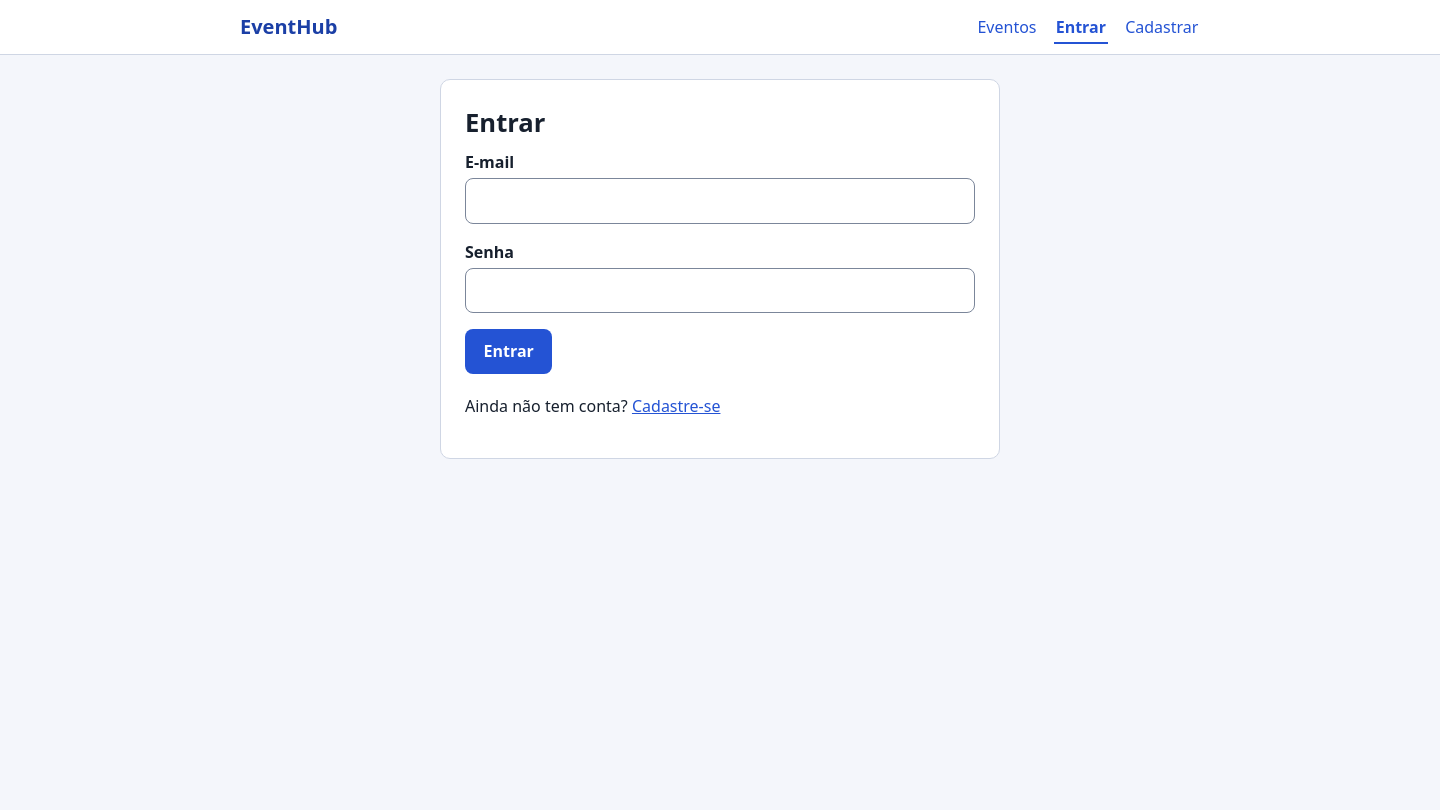
Administração de usuários › aprova: envia approved=true, atualiza a linha e lembra de entrar de novo
The image size is (1440, 810).
Type "maria@example.com" into the field labelled "E-mail" at (720, 201), box [465,178,975,224]
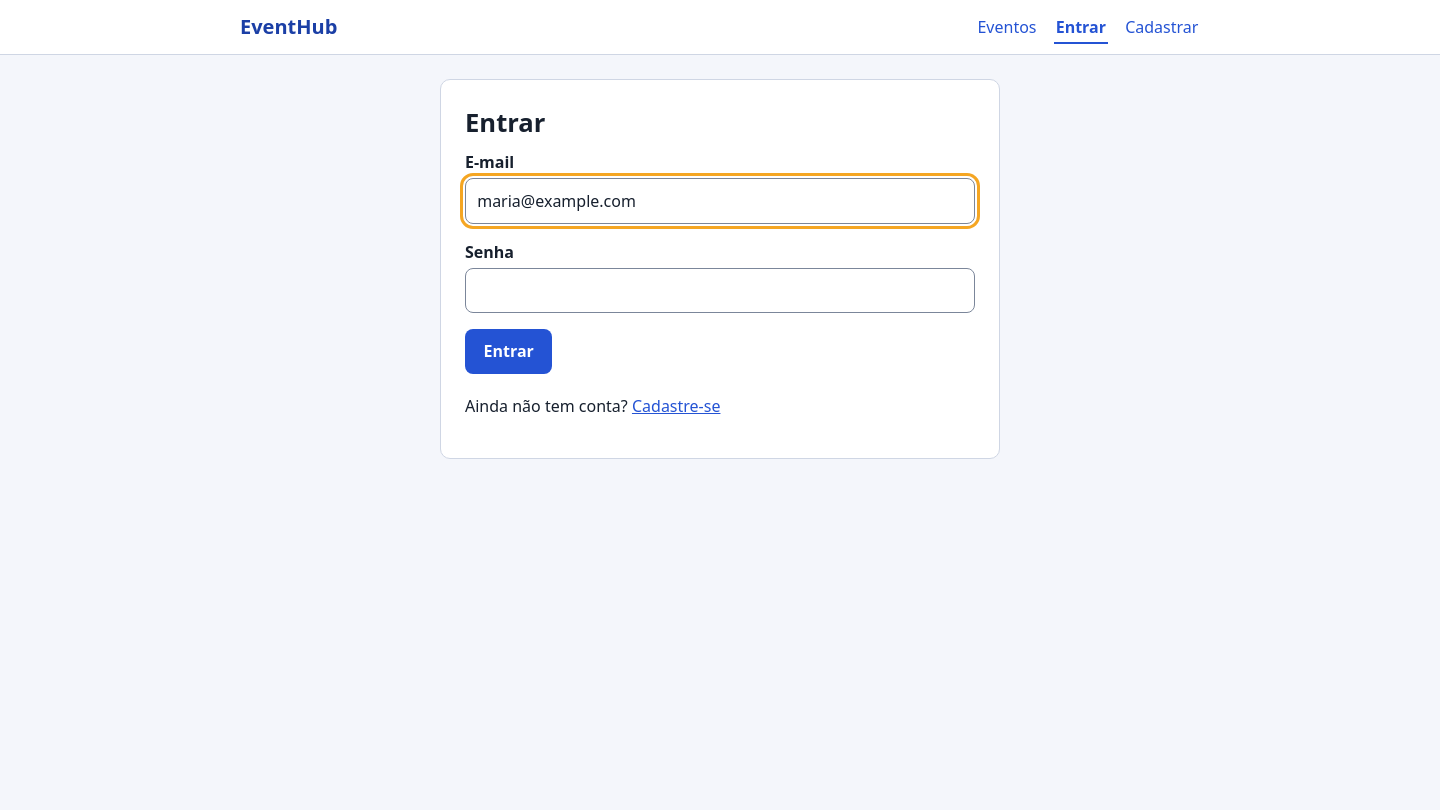
Type "senha-forte-123" into the password field labelled "Senha" at (720, 290), box [465,268,975,313]
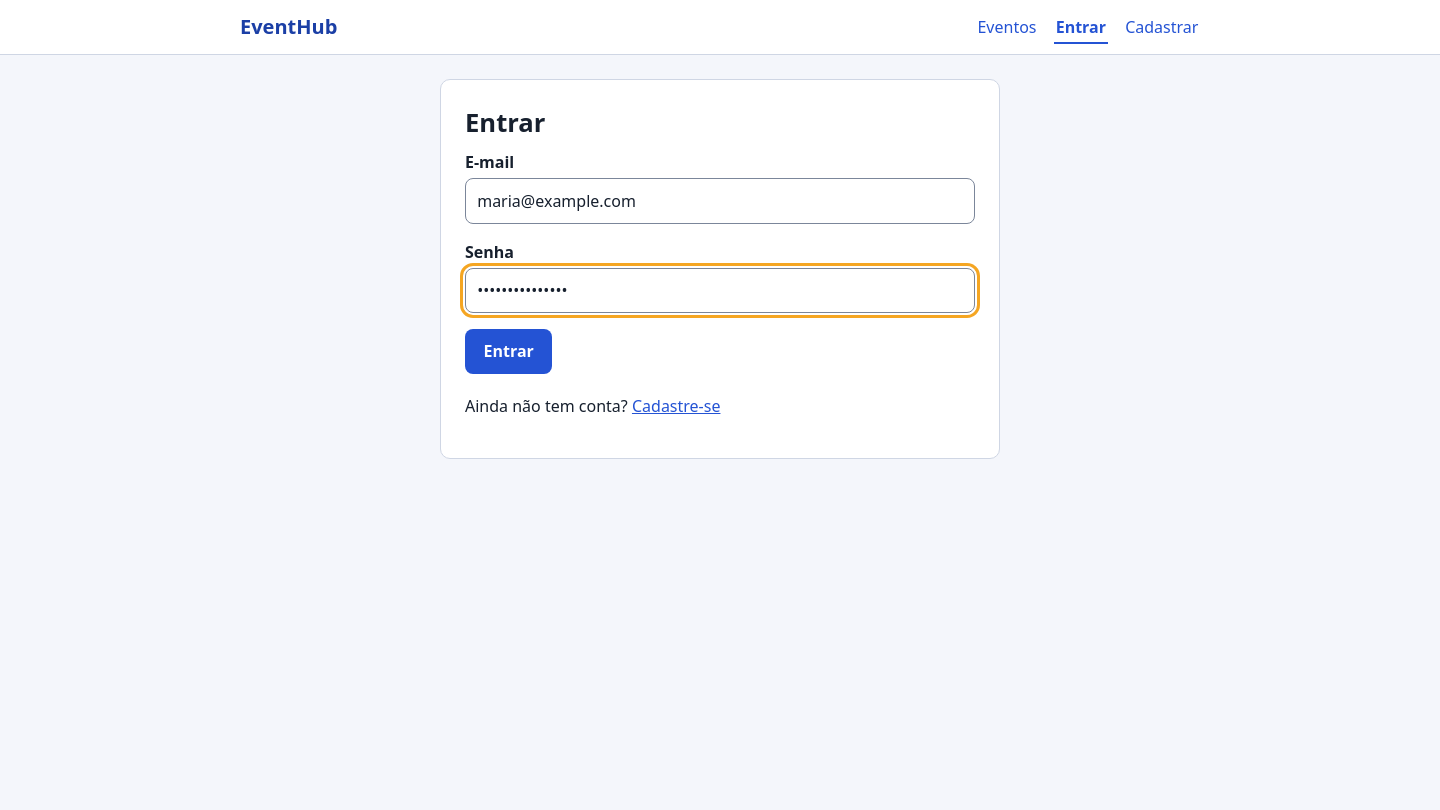
Click the button "Entrar" at (509, 351), box [465,329,552,374]
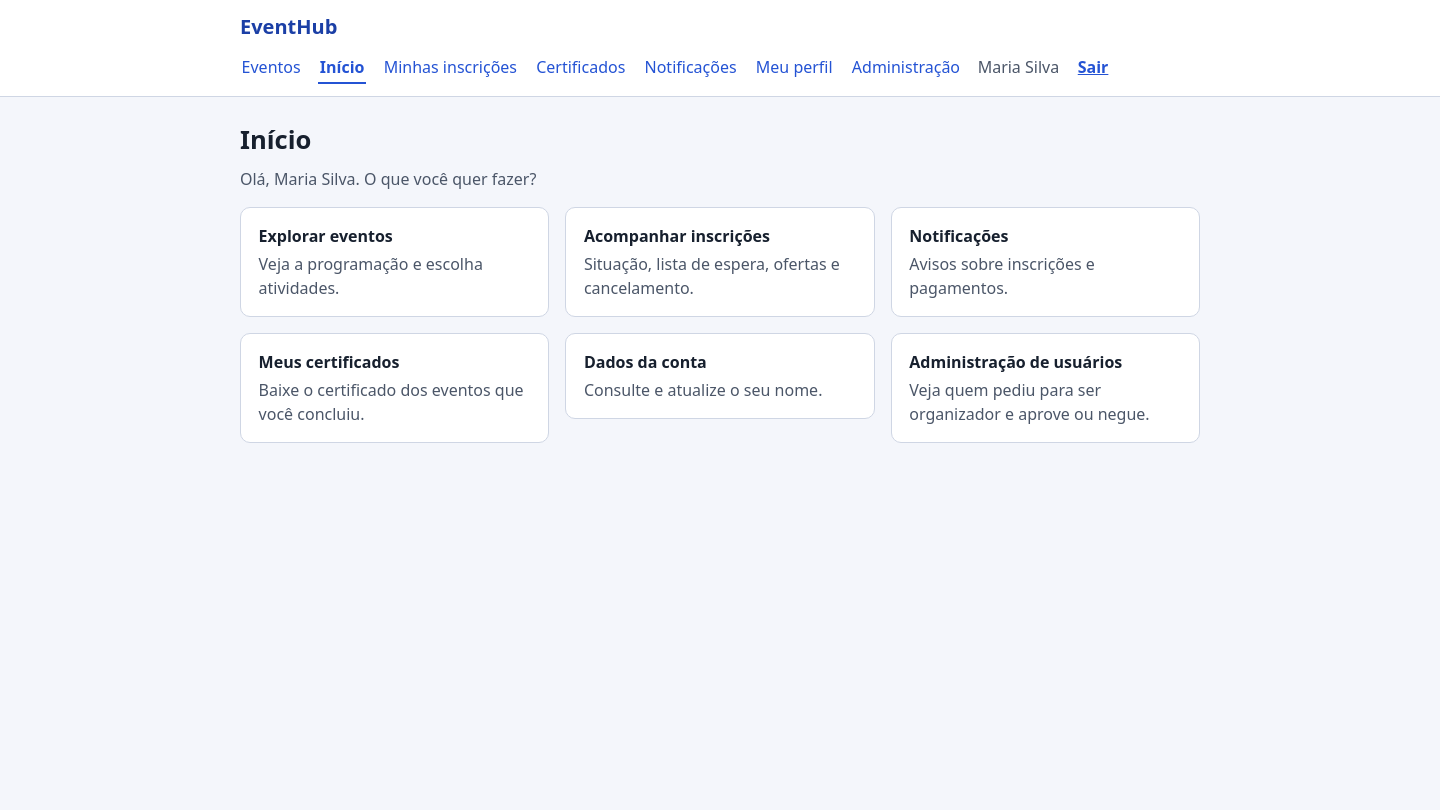
Click the link "Administração" at (906, 67), box [850,52,962,82]
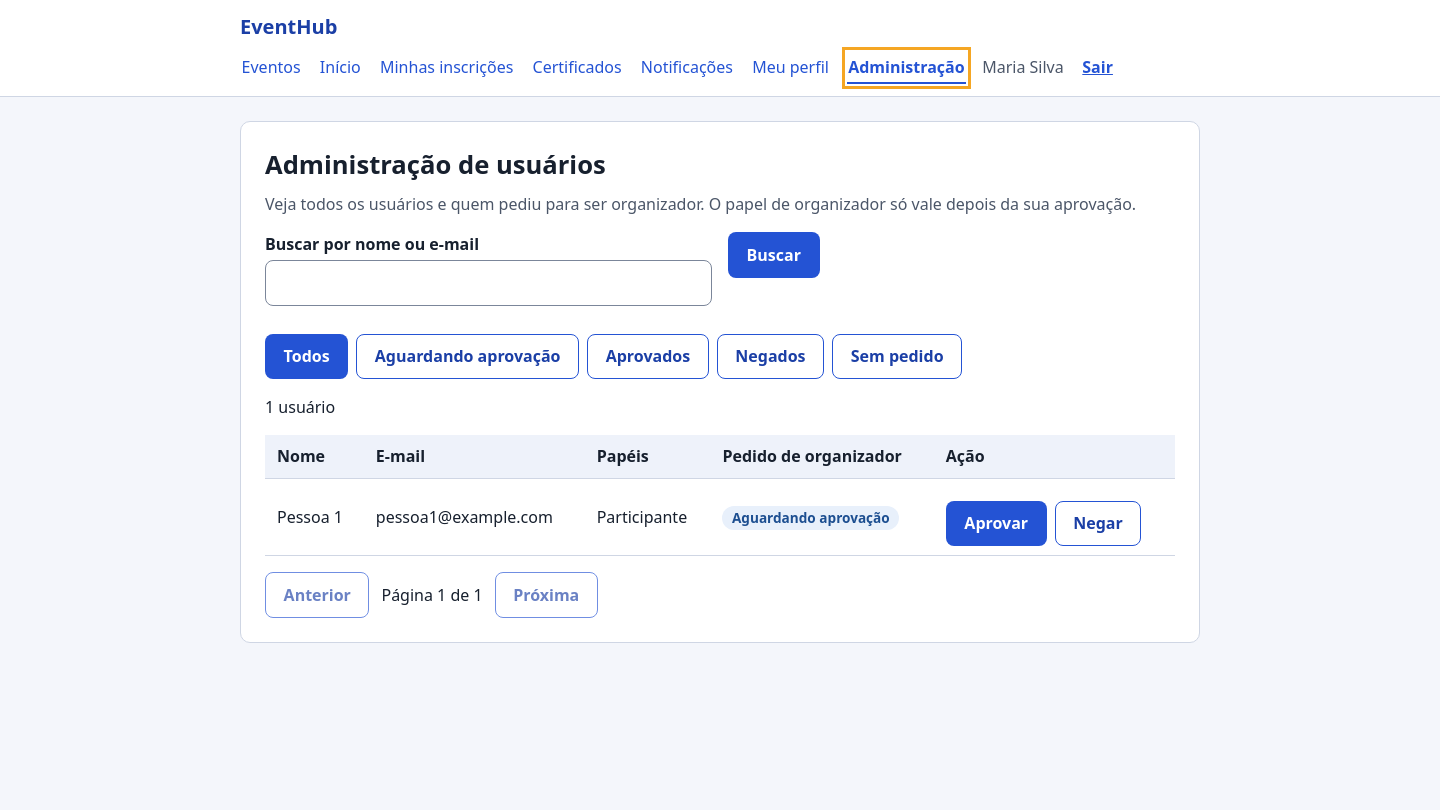
Check: the heading "Administração de usuários" is shown, box [265,147,606,182]
Click the button with aria-label "Aprovar Pessoa 1 como organizador" at (996, 523), box [946,500,1047,546]
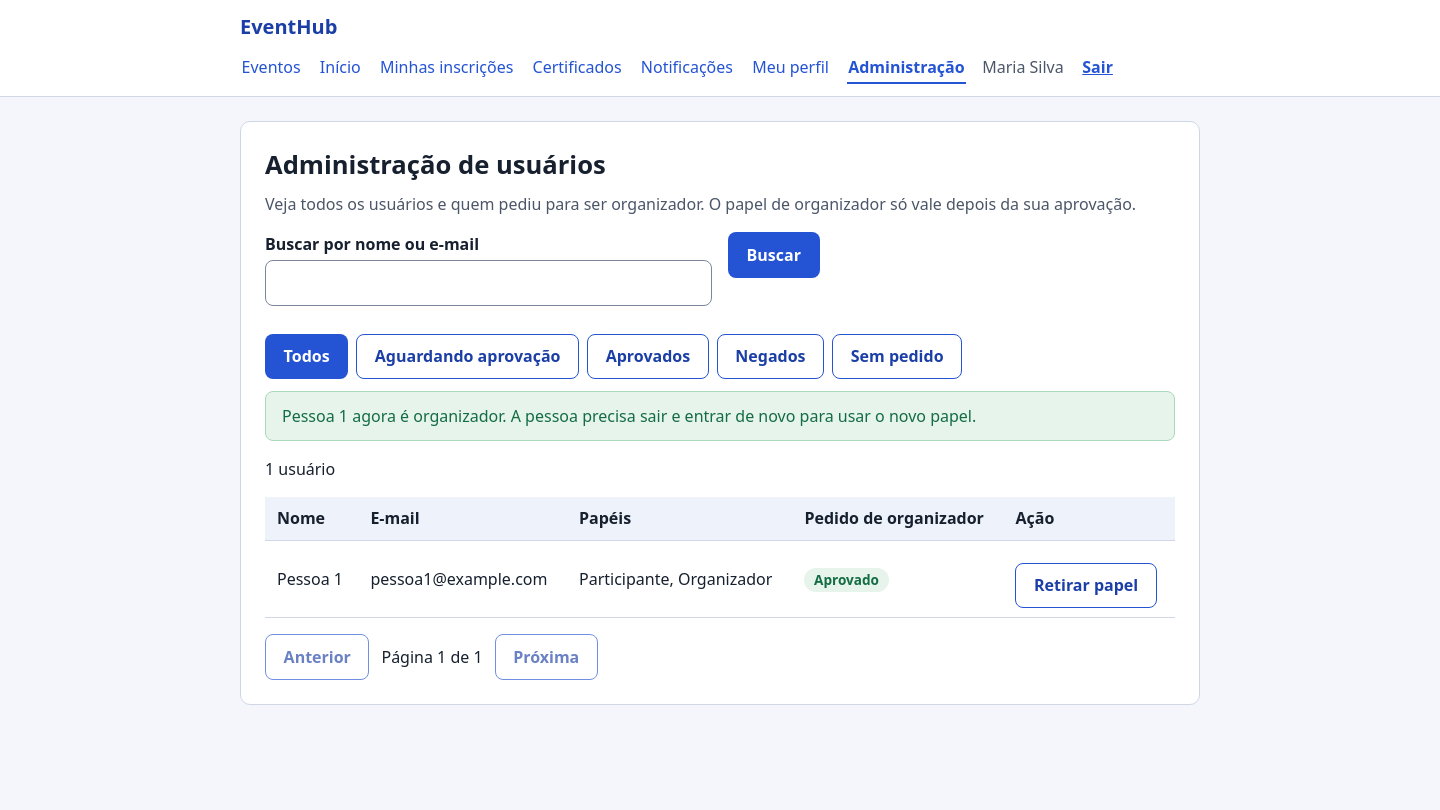
Check: the text "sair e entrar de novo" is shown, box [282,405,976,427]
Check: the text "Aprovado" is shown, box [804,568,889,592]
Check: the button with aria-label "Retirar o papel de organizador de Pessoa 1" is shown, box [1016,562,1157,608]
